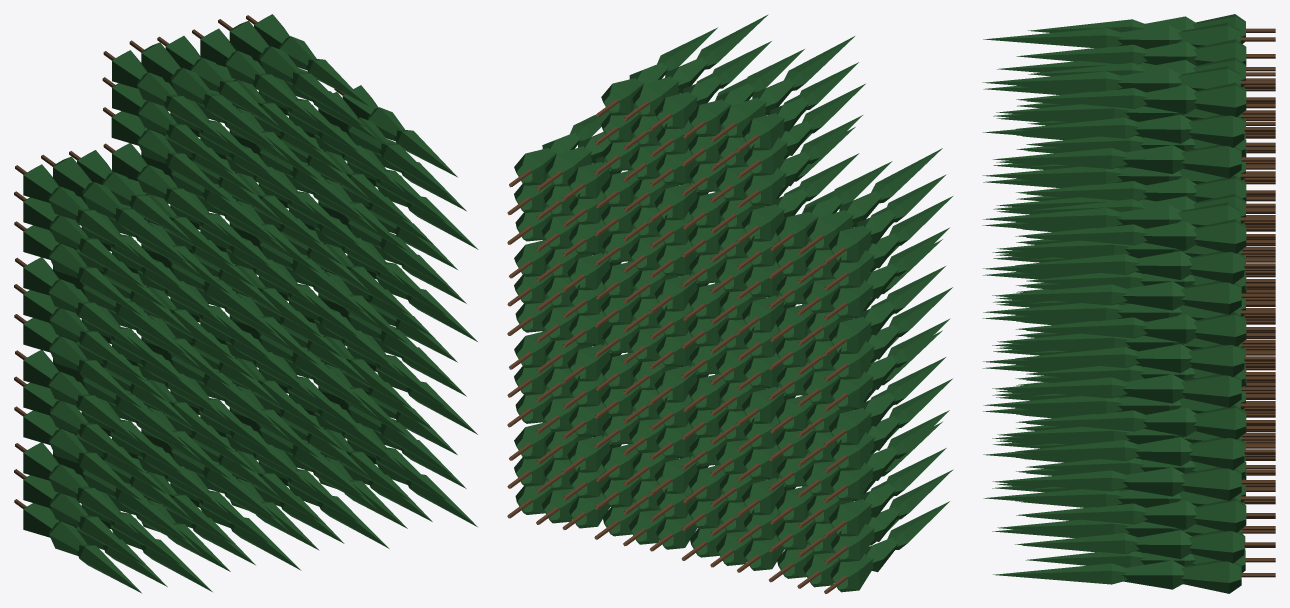
The model's file is complete.glb.
The picture shows the model from 3 angles, left to right: view 1: azimuth 30°, elevation 25°; view 2: azimuth 150°, elevation 25°; view 3: azimuth 270°, elevation 25°; orthographic projection. The views are drawn at different scales.
Visible parts, largest first — view 1: t03_g16.003, t14_g16.003, t02_g16.003, t00_g16.003, t01_g16.003, t24_g16.003, t13_g16.003, t33_g16.003, t23_g16.003, t30_g16.003, t20_g16.003, t12_g16.003 (+6 smaller); view 2: t03_g16.003, t14_g16.003, t00_g16.003, t02_g16.003, t01_g16.003, t24_g16.003, t33_g16.003, t13_g16.003, t32_g16.003, t31_g16.003, t10_g16.003, t23_g16.003 (+6 smaller); view 3: t33_g16.003, t24_g16.003, t31_g16.003, t30_g16.003, t32_g16.003, t14_g16.003, t23_g16.003, t21_g16.003, t22_g16.003, t20_g16.003, t13_g16.003, t03_g16.003 (+6 smaller).
Part boxes in pixels (left/top/right/bottom): t03_g16.003: left=14, top=150, right=212, bottom=315; t14_g16.003: left=102, top=36, right=300, bottom=201; t02_g16.003: left=14, top=257, right=212, bottom=408; t00_g16.003: left=14, top=442, right=212, bottom=593; t01_g16.003: left=14, top=350, right=212, bottom=500; t24_g16.003: left=192, top=14, right=389, bottom=179; t13_g16.003: left=103, top=143, right=300, bottom=294; t33_g16.003: left=289, top=85, right=478, bottom=250; t23_g16.003: left=200, top=122, right=389, bottom=272; t30_g16.003: left=289, top=378, right=477, bottom=528; t20_g16.003: left=200, top=399, right=389, bottom=550; t12_g16.003: left=112, top=236, right=301, bottom=386; t03_g16.003: left=768, top=148, right=952, bottom=320; t14_g16.003: left=681, top=36, right=865, bottom=207; t00_g16.003: left=769, top=421, right=953, bottom=593; t02_g16.003: left=768, top=239, right=952, bottom=411; t01_g16.003: left=769, top=330, right=952, bottom=502; t24_g16.003: left=594, top=14, right=771, bottom=186; t33_g16.003: left=507, top=111, right=629, bottom=256; t13_g16.003: left=681, top=127, right=859, bottom=298; t32_g16.003: left=507, top=233, right=629, bottom=347; t31_g16.003: left=507, top=324, right=629, bottom=438; t10_g16.003: left=681, top=458, right=803, bottom=572; t23_g16.003: left=594, top=163, right=716, bottom=277; t33_g16.003: left=983, top=194, right=1275, bottom=314; t24_g16.003: left=982, top=57, right=1275, bottom=178; t31_g16.003: left=983, top=386, right=1275, bottom=500; t30_g16.003: left=983, top=479, right=1275, bottom=593; t32_g16.003: left=983, top=293, right=1275, bottom=407; t14_g16.003: left=983, top=14, right=1275, bottom=122; t23_g16.003: left=982, top=156, right=1275, bottom=258; t21_g16.003: left=983, top=347, right=1275, bottom=444; t22_g16.003: left=983, top=254, right=1275, bottom=351; t20_g16.003: left=983, top=440, right=1275, bottom=538; t13_g16.003: left=983, top=118, right=1275, bottom=213; t03_g16.003: left=983, top=78, right=1275, bottom=169.
Bounding box in the file's own units: 63.63 × 80.4 × 45.76.
